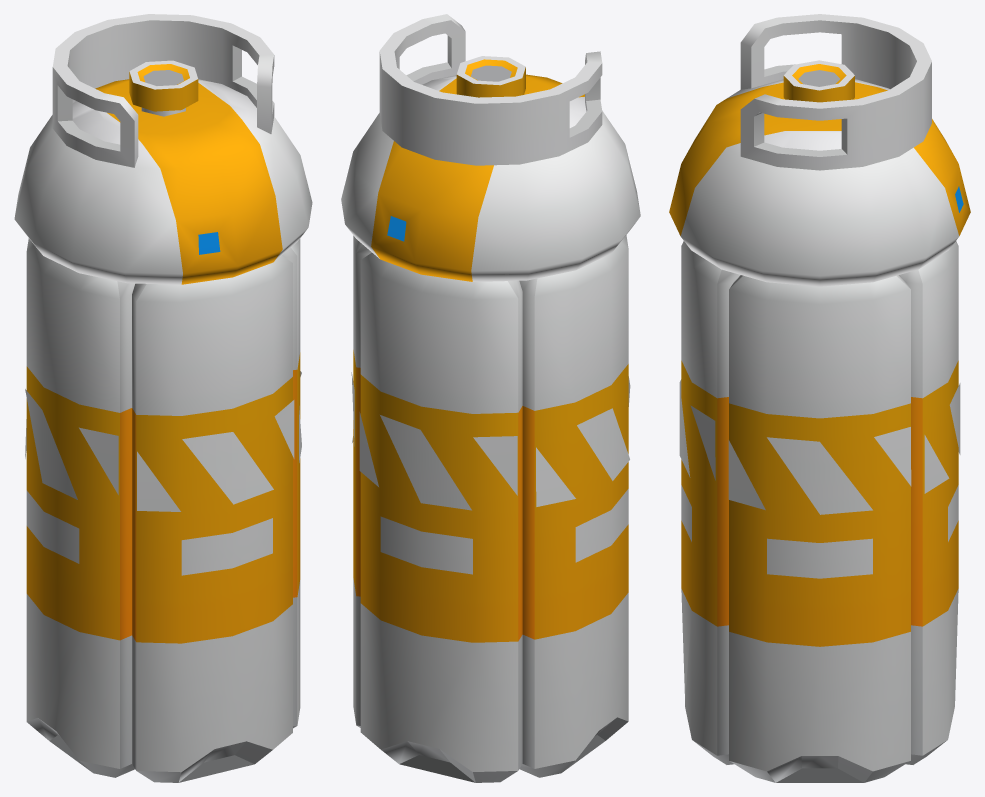
File: Barrel_015.glb
The picture shows the model from 3 angles, left to right: view 1: azimuth 30°, elevation 25°; view 2: azimuth 150°, elevation 25°; view 3: azimuth 270°, elevation 25°; orthographic projection.
Visible parts, largest first — view 1: Barrel_015; view 2: Barrel_015; view 3: Barrel_015.
Boxes of the visible parts, x1=… form: Barrel_015: x1=14, y1=14, x2=312, y2=782; Barrel_015: x1=341, y1=14, x2=640, y2=782; Barrel_015: x1=669, y1=14, x2=970, y2=782.
Bounding box in the file's own units: 0.5331 × 1.32 × 0.5331.
Materials: 2 (2 with a texture image).
